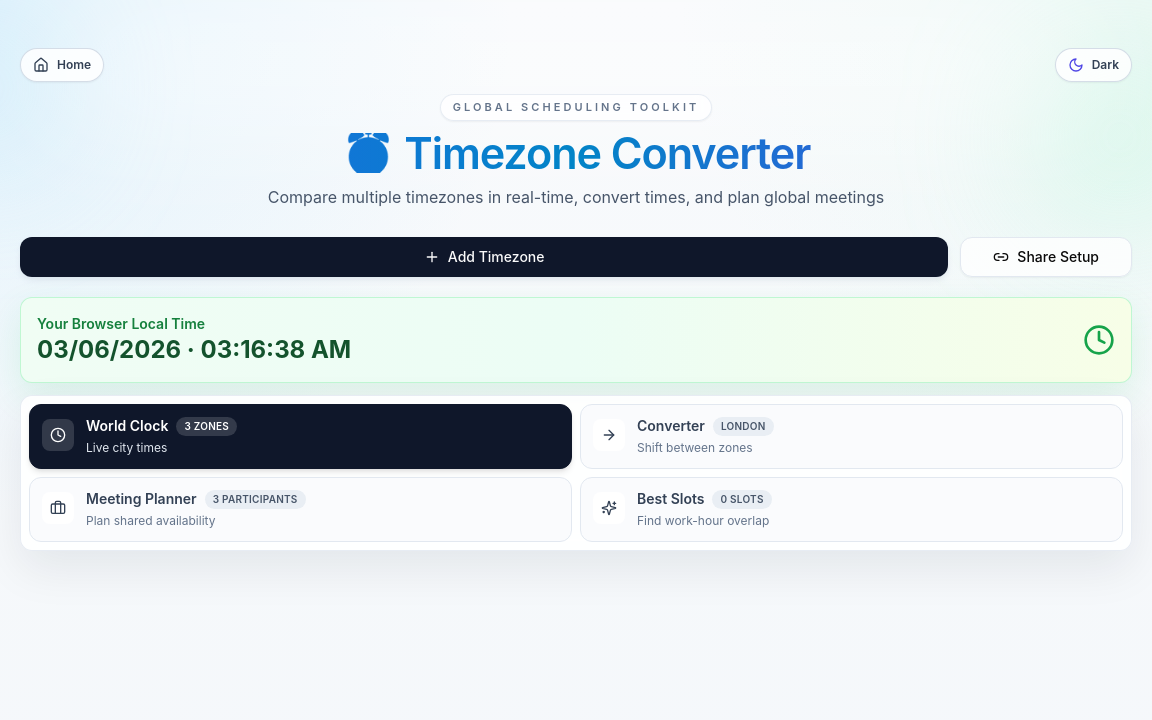
Test: TimezoneConverter Component - Hardcoded Data Version › shows ICS export button in meeting planner
Click the tab "Meeting Planner 3 participants Plan shared availability" at coordinates (300, 509), box [29, 476, 572, 542]
(page scrolled)
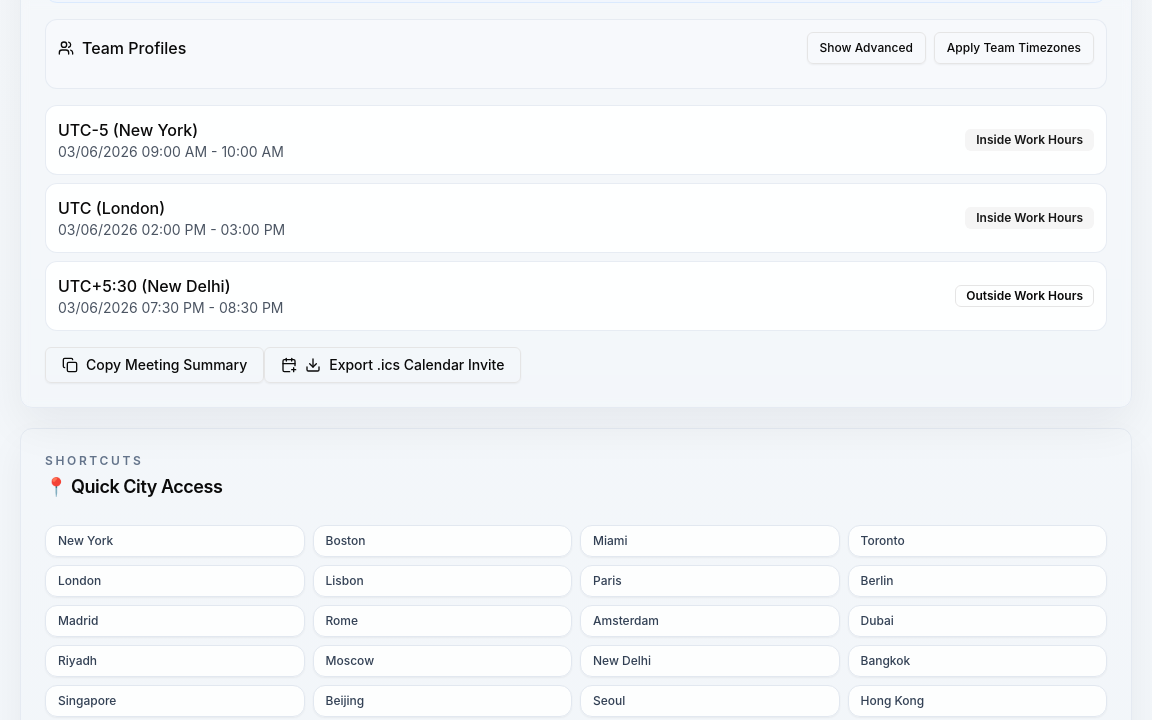
Expected: the button "Export .ics Calendar Invite" is shown, [264, 346, 521, 382]
